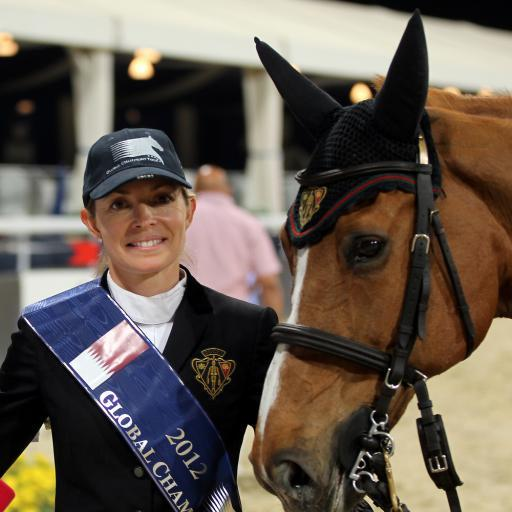Horse: (245, 8, 511, 511)
